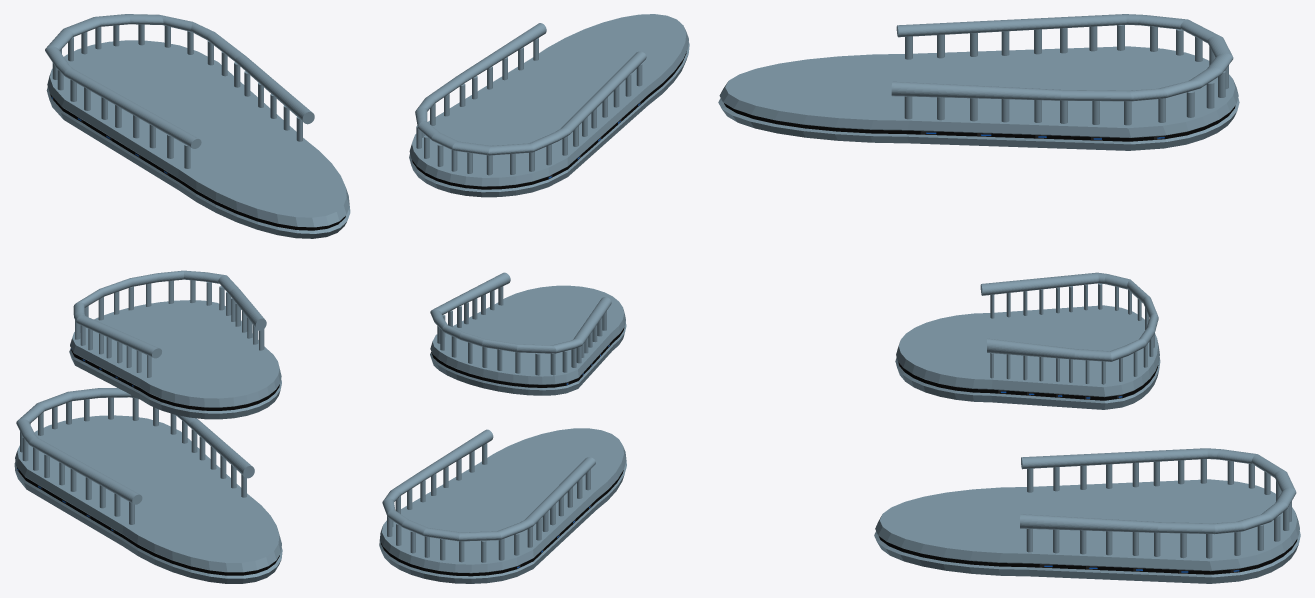
File: Plataforma do fundo.fbx
3 renders of one model, left to right at view 1: azimuth 30°, elevation 25°; view 2: azimuth 150°, elevation 25°; view 3: azimuth 270°, elevation 25°, orthographic. The views are drawn at different scales.
Visible parts, largest first — view 1: Cilindro.056, Cilindro, Cilindro.055, Cilindro.083, Cilindro.027, Cilindro.028; view 2: Cilindro.056, Cilindro, Cilindro.055, Cilindro.083, Cilindro.027, Cilindro.028; view 3: Cilindro.056, Cilindro, Cilindro.055, Cilindro.083, Cilindro.027, Cilindro.028.
Part boxes in pixels (x1,y1,x2,y2): Cilindro.056: (46,40,350,238); Cilindro: (14,415,282,583); Cilindro.055: (69,300,281,419); Cilindro.083: (45,14,314,148); Cilindro.027: (16,387,254,504); Cilindro.028: (73,270,266,358); Cilindro.056: (409,14,689,197); Cilindro: (379,428,626,583); Cilindro.055: (430,285,626,395); Cilindro.083: (415,23,646,155); Cilindro.027: (382,429,595,541); Cilindro.028: (430,272,611,353); Cilindro.056: (718,46,1239,150); Cilindro: (874,479,1300,583); Cilindro.055: (895,305,1160,409); Cilindro.083: (891,14,1233,101); Cilindro.027: (1020,448,1296,534); Cilindro.028: (980,272,1158,361).
Size of the model in its own units: 1515 by 4112 by 4413.
